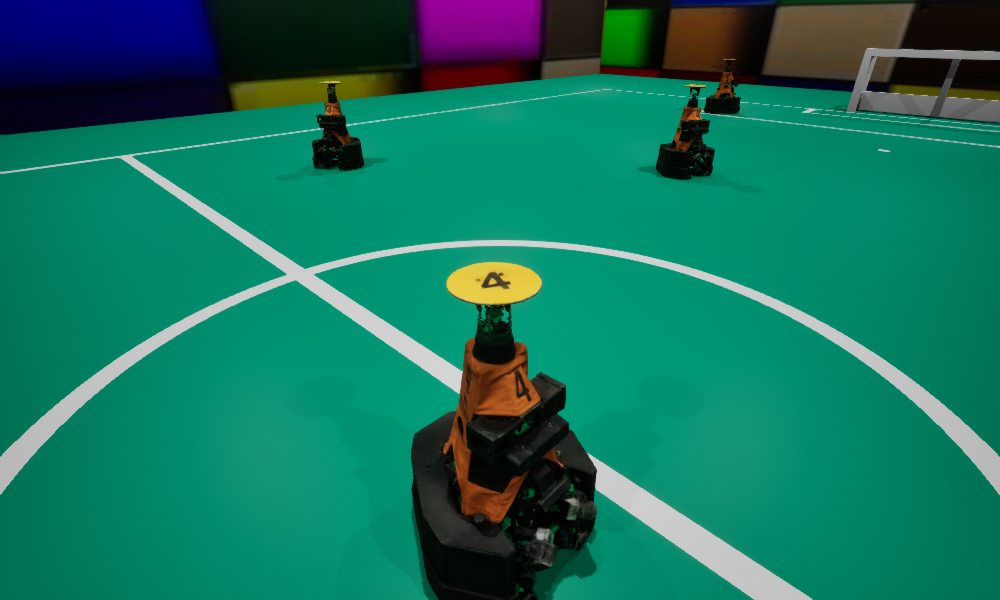0 orange robot TechUnited: (411, 262, 596, 599), (656, 84, 714, 179), (312, 81, 363, 169), (704, 59, 740, 113)
